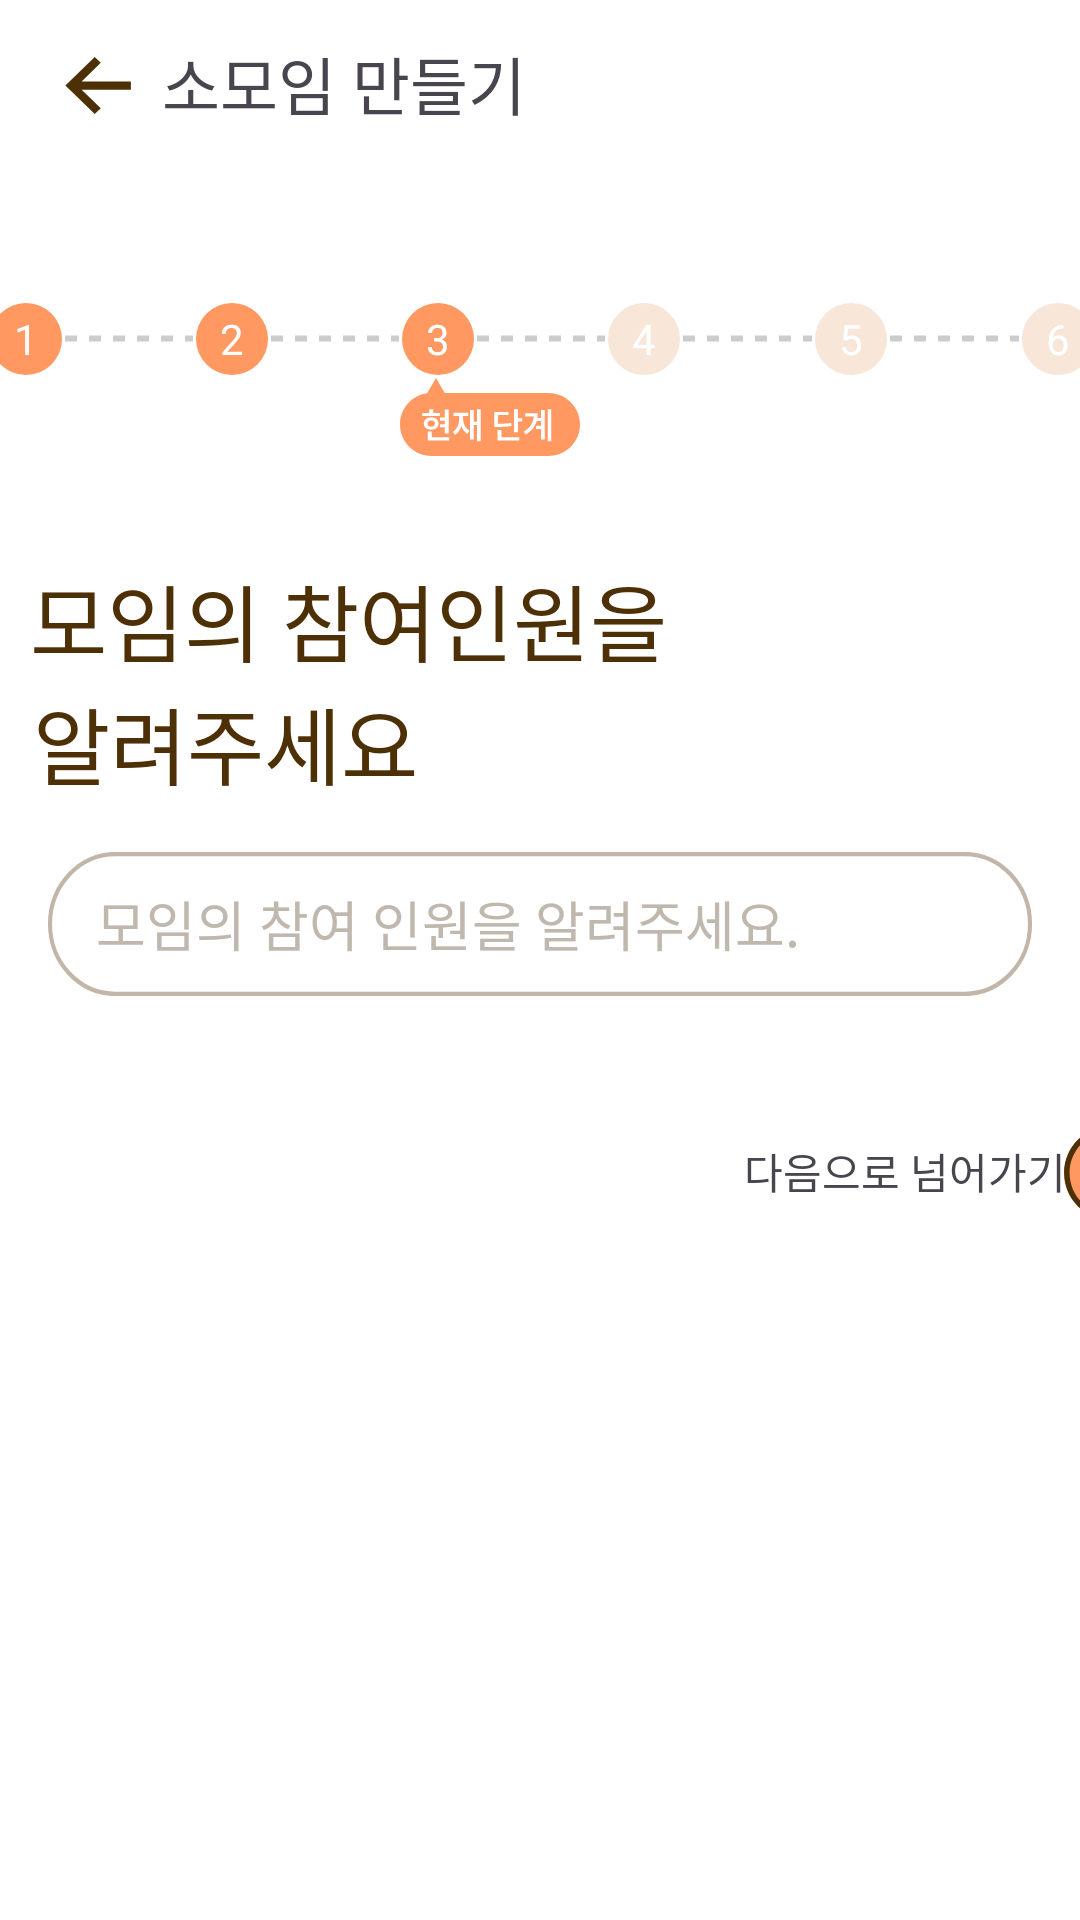

Named icons in this screenshot (1080px x 1920px) and their bounding boxes, bbox(x1, y1, x2, y2):
meeting backbutton: bbox(65, 57, 131, 114)
